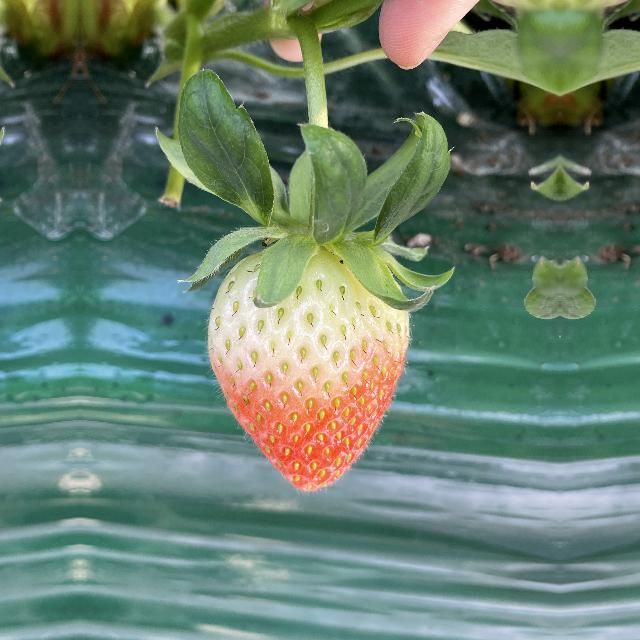Health_75: (207, 236, 426, 497)
